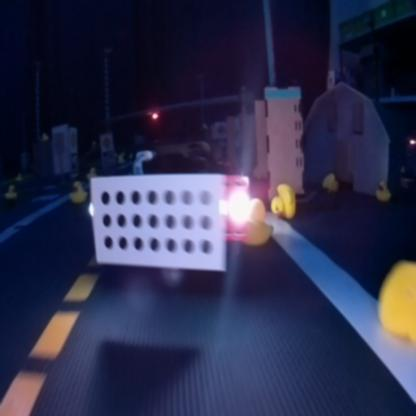duckie: (374, 245, 415, 357), (264, 173, 296, 221)
duckiebot: (90, 139, 256, 299)
